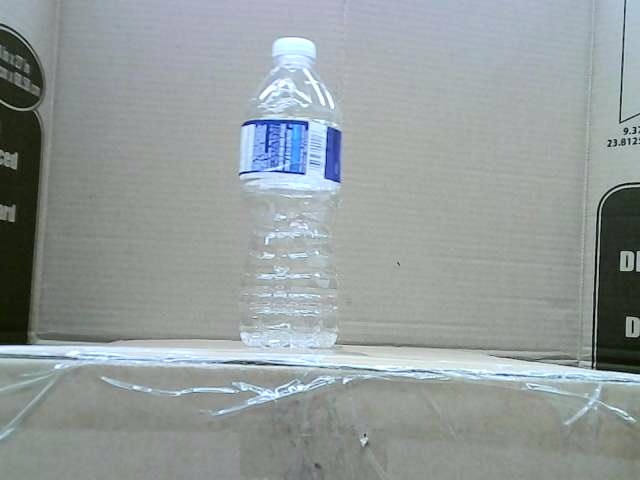WaterBottle: (235, 38, 342, 348)
